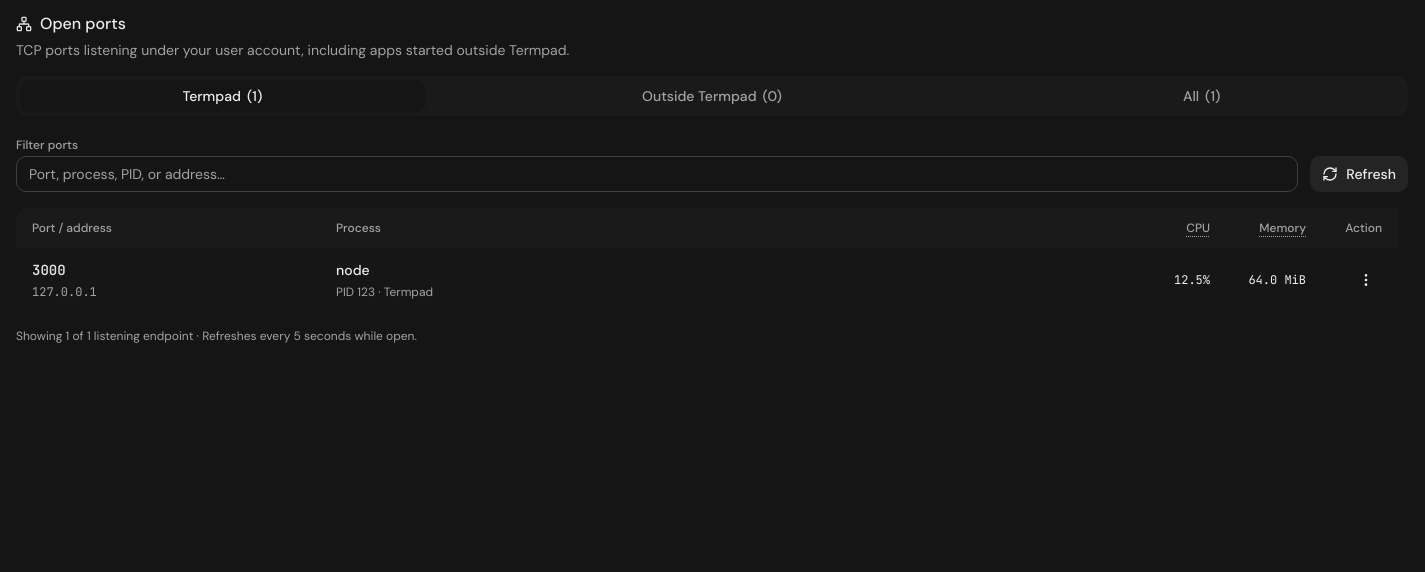
Scenario: Open ports › disables terminal closure when no owning terminal is known
Press Enter in the button named "Actions for node on port 3000 (PID 123)", box top-left (1350, 264), bottom-right (1382, 296)
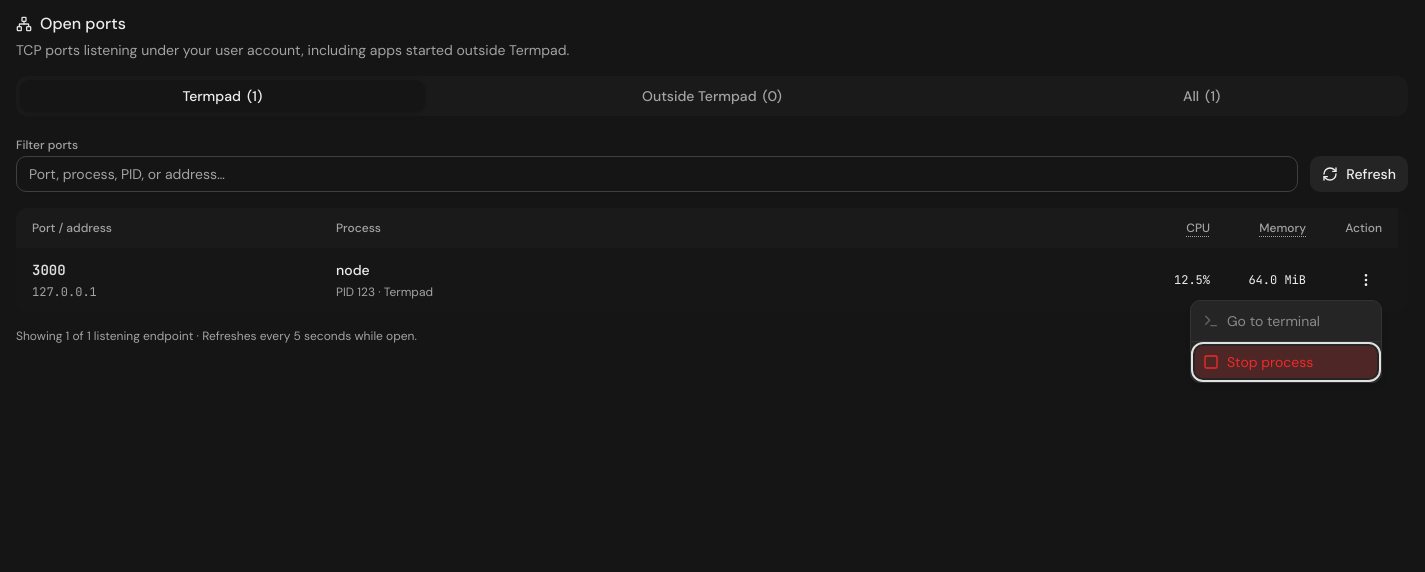
Expected: the menu is shown, top-left (1190, 300), bottom-right (1382, 383)
Click the menu item "Stop process" at x=1286, y=362, box top-left (1195, 346), bottom-right (1377, 378)
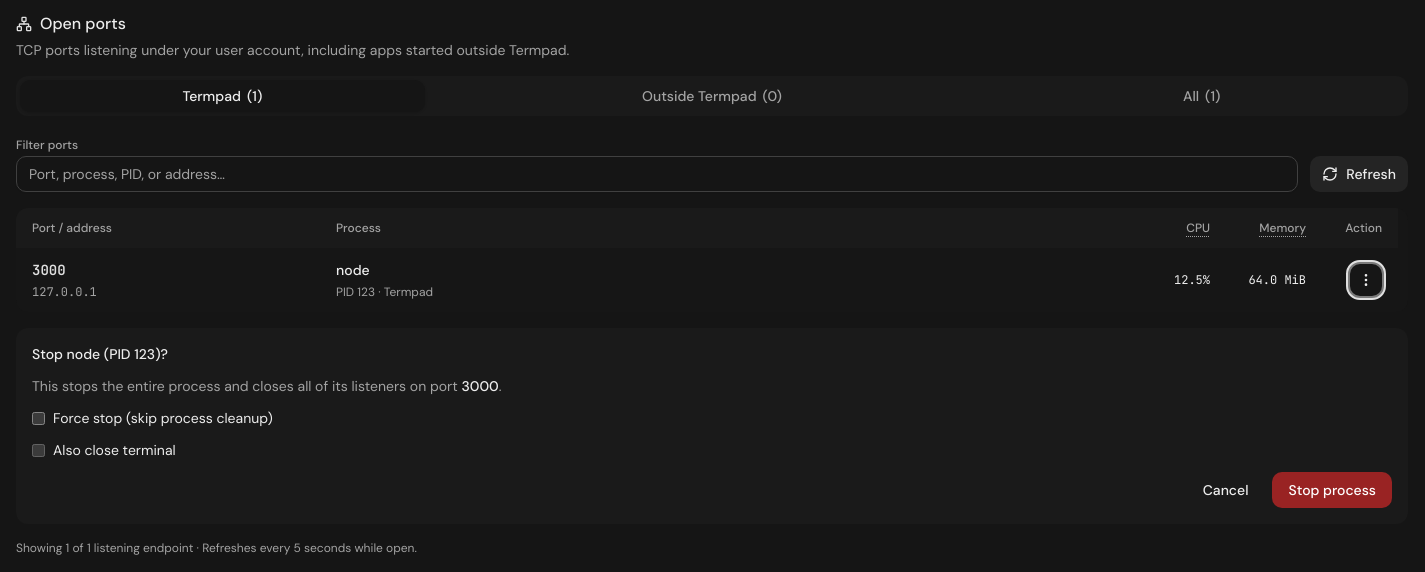
Expected: the checkbox labelled "Also close terminal" is disabled, top-left (32, 444), bottom-right (45, 456)
